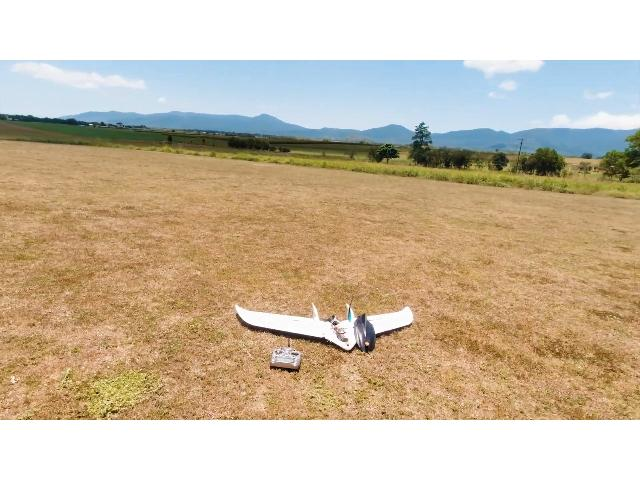Anti-Drone: (220, 286, 460, 362)
